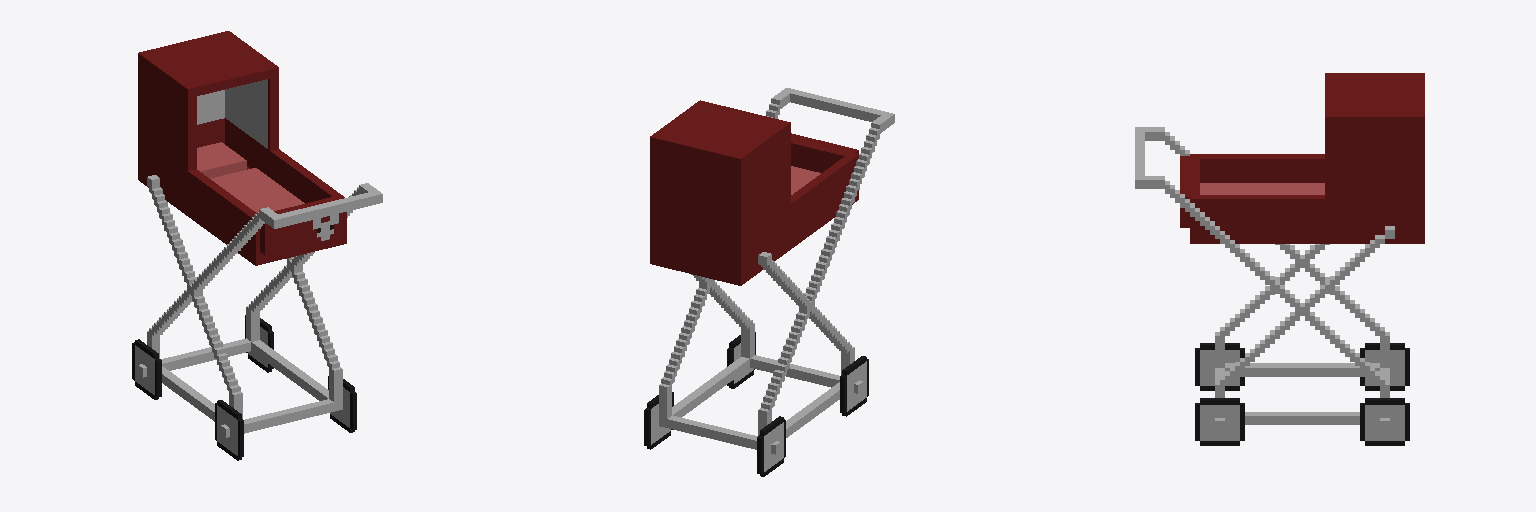
3 renders of one model, left to right at view 1: azimuth 30°, elevation 25°; view 2: azimuth 150°, elevation 25°; view 3: azimuth 270°, elevation 25°, orthographic.
Parts seen in each view (by area): view 1: object 1; view 2: object 1; view 3: object 1.
Part boxes in pixels (x1,y1,x2,y2): object 1: (132,31,382,460); object 1: (644,88,894,476); object 1: (1135,73,1424,445).
Size of the model in its own units: 2.9 by 7.1 by 5.8.
Materials: 1 (1 with a texture image).